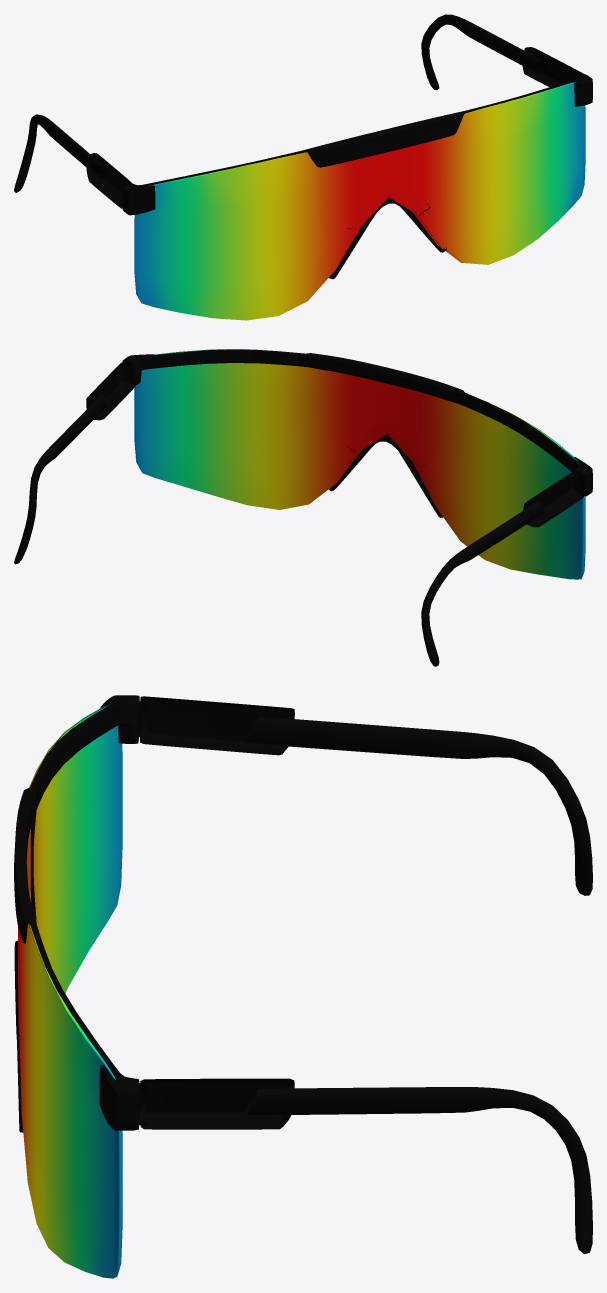
The model's file is Viper-Rainbow.glb.
The picture shows the model from 3 angles, top to bottom: view 1: azimuth 30°, elevation 25°; view 2: azimuth 150°, elevation 25°; view 3: azimuth 270°, elevation 25°; orthographic projection. The views are drawn at different scales.
Visible parts, largest first — view 1: Object_5.003; view 2: Object_5.003; view 3: Object_5.003.
Part boxes in pixels (bbox=[...]): Object_5.003: bbox=[14, 14, 592, 320]; Object_5.003: bbox=[14, 349, 592, 666]; Object_5.003: bbox=[14, 695, 592, 1278].
Size of the model in its own units: 0.5484 by 0.1823 by 0.3388.
2 materials, 1 textured.
